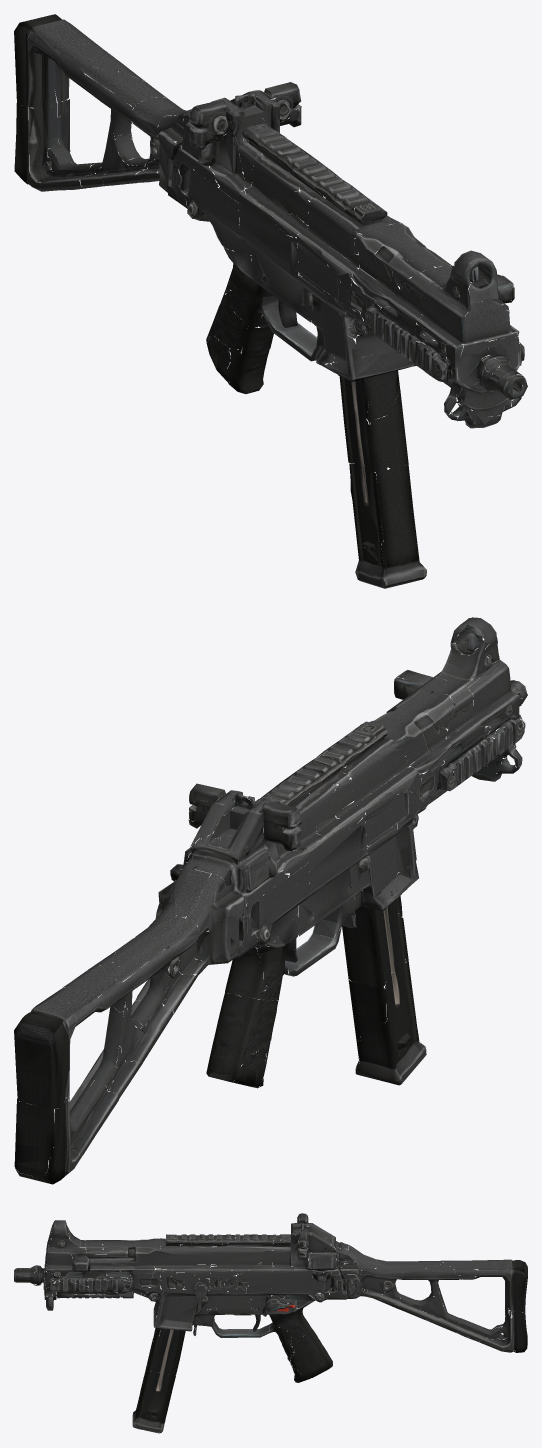
File: ump.glb
3 views of the same model, one above another, from view 1: azimuth 30°, elevation 25°; view 2: azimuth 150°, elevation 25°; view 3: azimuth 270°, elevation 25° (orthographic). The views are drawn at different scales.
Parts seen in each view (by area): view 1: tripo_node_ebd1995e-9c5e-4da5-8353-01c03d1d8826; view 2: tripo_node_ebd1995e-9c5e-4da5-8353-01c03d1d8826; view 3: tripo_node_ebd1995e-9c5e-4da5-8353-01c03d1d8826.
Boxes of the visible parts, left/top/right/bottom form: tripo_node_ebd1995e-9c5e-4da5-8353-01c03d1d8826: left=14, top=14, right=527, bottom=588; tripo_node_ebd1995e-9c5e-4da5-8353-01c03d1d8826: left=14, top=617, right=527, bottom=1184; tripo_node_ebd1995e-9c5e-4da5-8353-01c03d1d8826: left=14, top=1213, right=527, bottom=1433.
Bounding box in the file's own units: 0.1281 × 0.4361 × 0.9802.
Materials: 1 (1 with a texture image).
